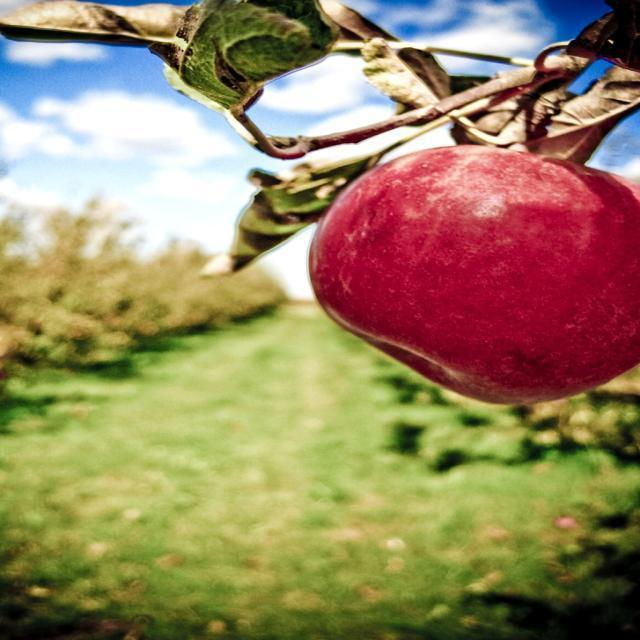Apple: (306, 144, 639, 406)
